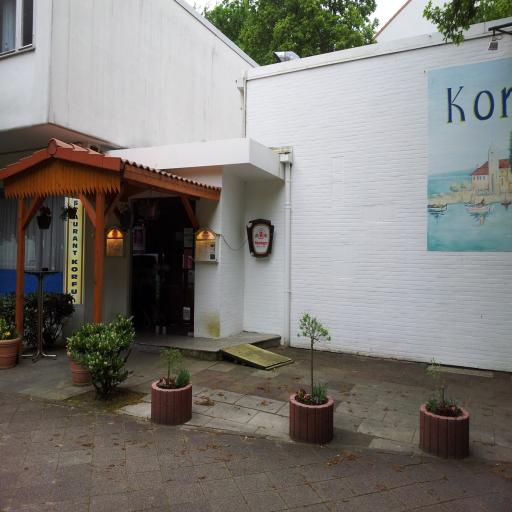ramp: (220, 344, 292, 371)
